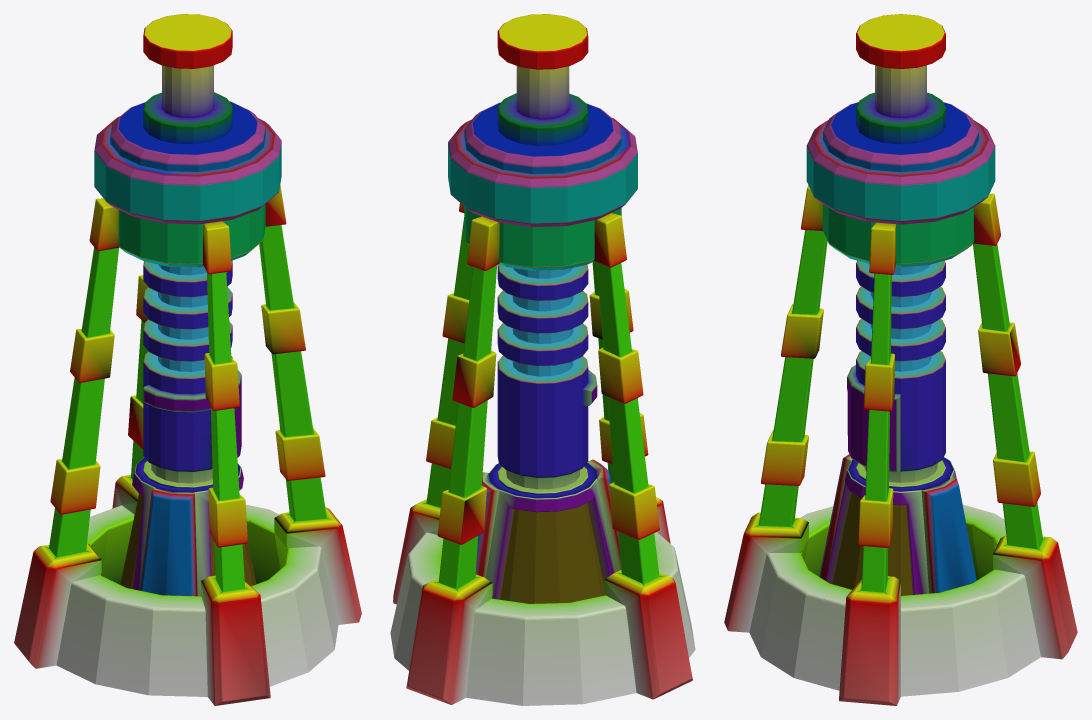
The model's file is Grapple Pillar.fbx.
3 renders of one model, left to right at view 1: azimuth 30°, elevation 25°; view 2: azimuth 150°, elevation 25°; view 3: azimuth 270°, elevation 25°, orthographic.
Visible parts, largest first — view 1: Grapple_Pillar; view 2: Grapple_Pillar; view 3: Grapple_Pillar.
Boxes of the visible parts, x1,y1,x2,y2 form: Grapple_Pillar: (14, 14, 361, 705); Grapple_Pillar: (390, 14, 695, 705); Grapple_Pillar: (724, 14, 1077, 705).
Size of the model in its own units: 656 by 1229 by 656.
